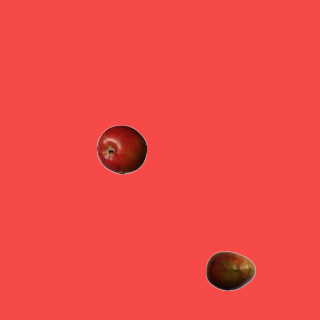Apple Braeburn: (96, 124, 146, 174)
Mango Red: (205, 245, 255, 295)
